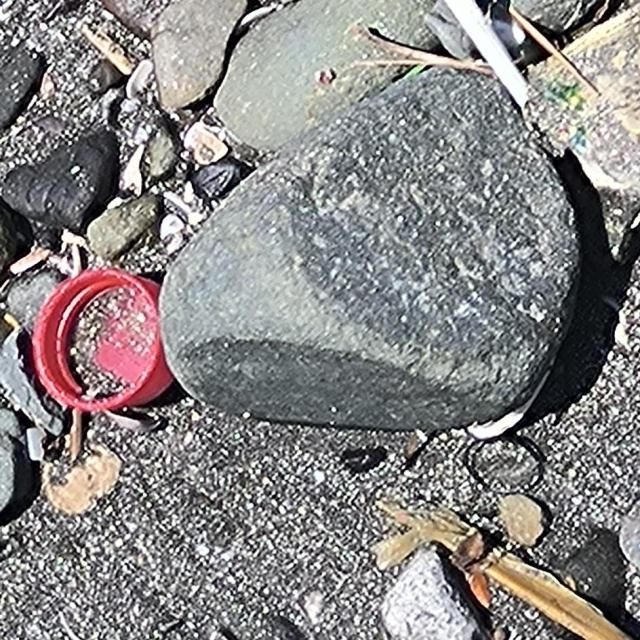litter: (34, 271, 178, 419)
